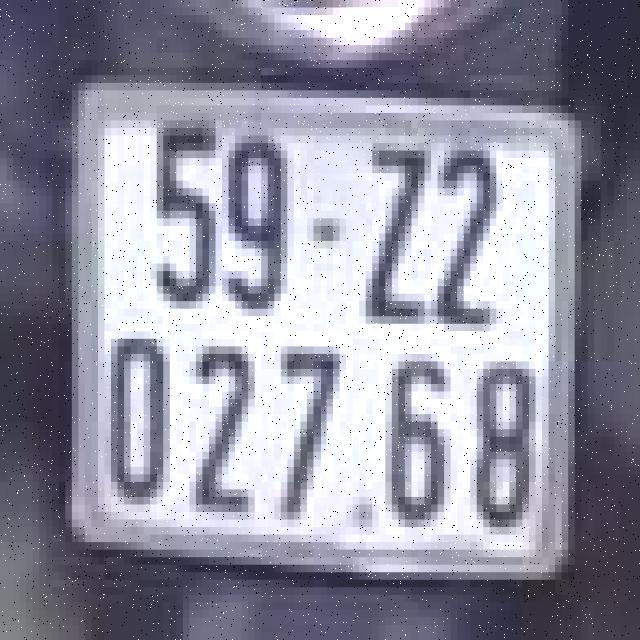0: (98, 328, 176, 524)
2: (434, 132, 513, 335), (186, 335, 258, 523)
5: (147, 109, 219, 313)
6: (379, 342, 457, 530)
7: (264, 338, 350, 534)
8: (467, 347, 545, 558)
9: (225, 124, 291, 328)
Z: (362, 140, 428, 328)
